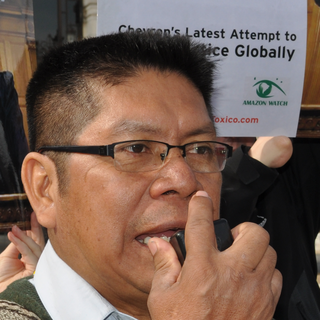eye: (179, 134, 214, 164), (115, 140, 155, 164)
